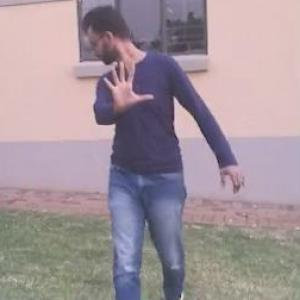follow_hand: (97, 57, 154, 113)
